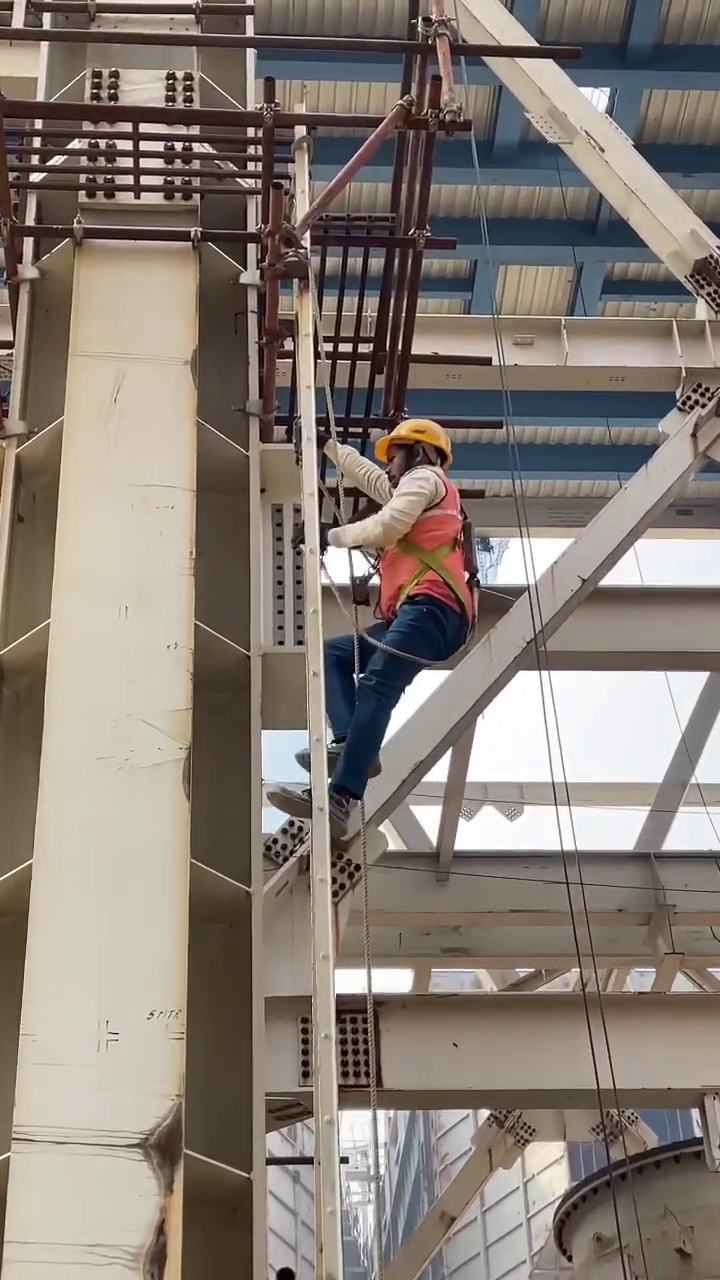Helmet: (377, 417, 456, 461)
Person: (257, 416, 475, 832)
Safety_Harness: (339, 468, 477, 670)
Safety_shoes: (268, 783, 353, 838), (296, 740, 383, 781)
